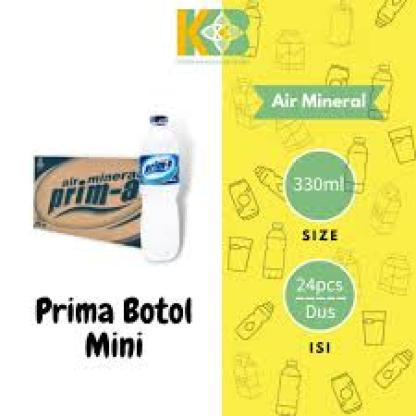Glass Bottle: (130, 108, 188, 268)
